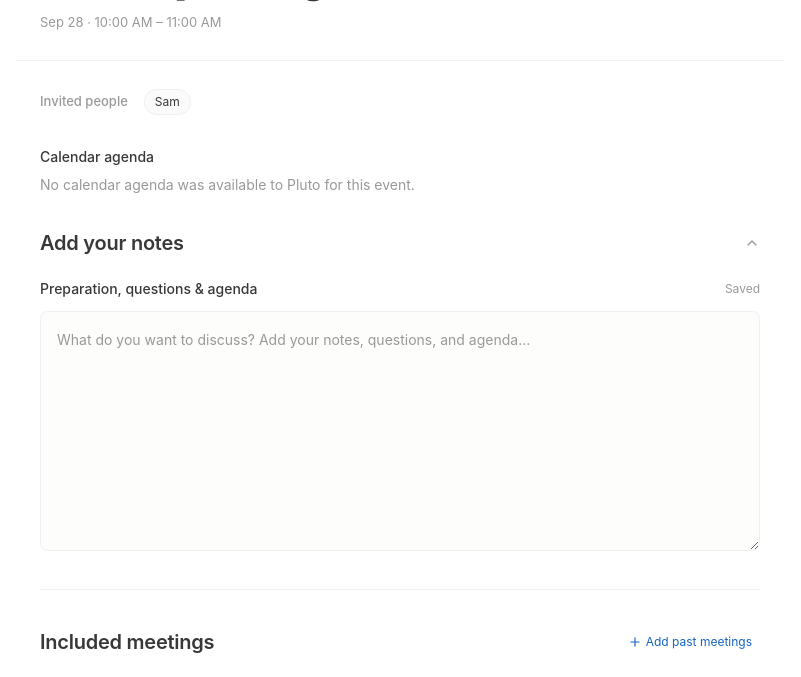
Test case: Escape discards the picker selection, restores focus, and leaves prep open
(page scrolled)
What coordinates should you click on to do the following:
click the button "Add past meetings"
I would click on:
 (690, 642)
Its box is top-left (620, 626), bottom-right (760, 658).
Wait 200 ms
(page scrolled)
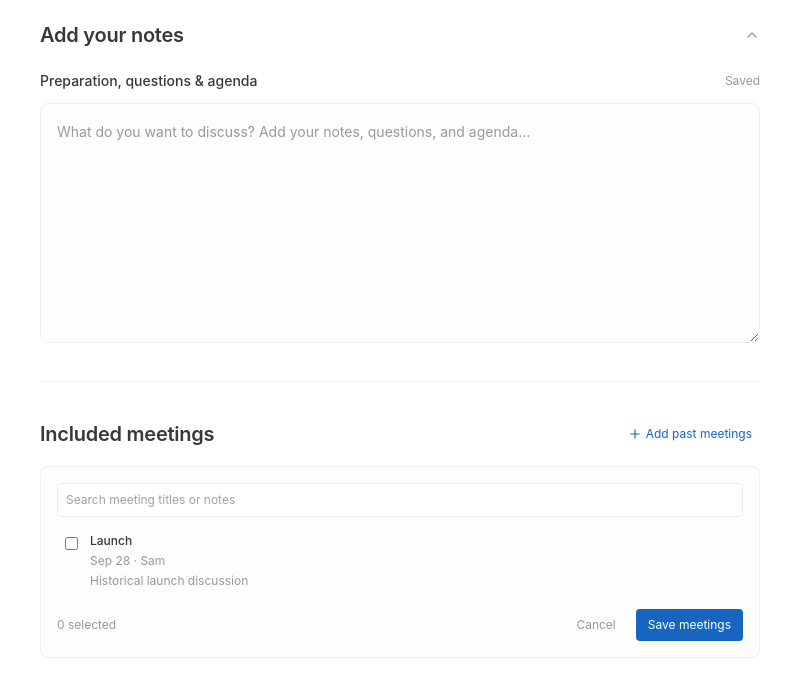
What coordinates should you click on to do the following:
click the checkbox named "Include Launch"
I would click on:
 (72, 543)
Its box is top-left (65, 537), bottom-right (78, 550).
(page scrolled)
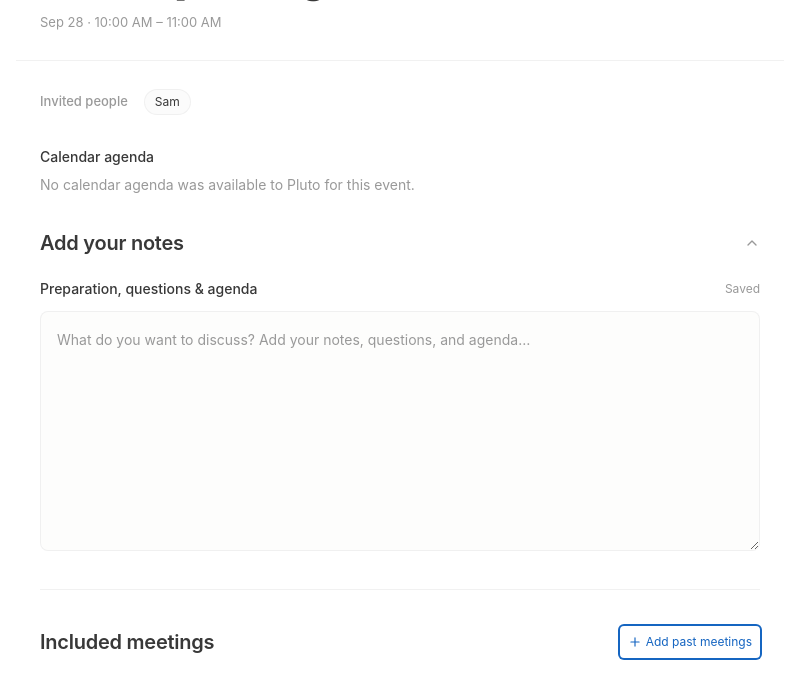
What coordinates should you click on to do the following:
click the button "Add past meetings"
I would click on:
 (690, 642)
Its box is top-left (620, 626), bottom-right (760, 658).
Wait 200 ms
(page scrolled)
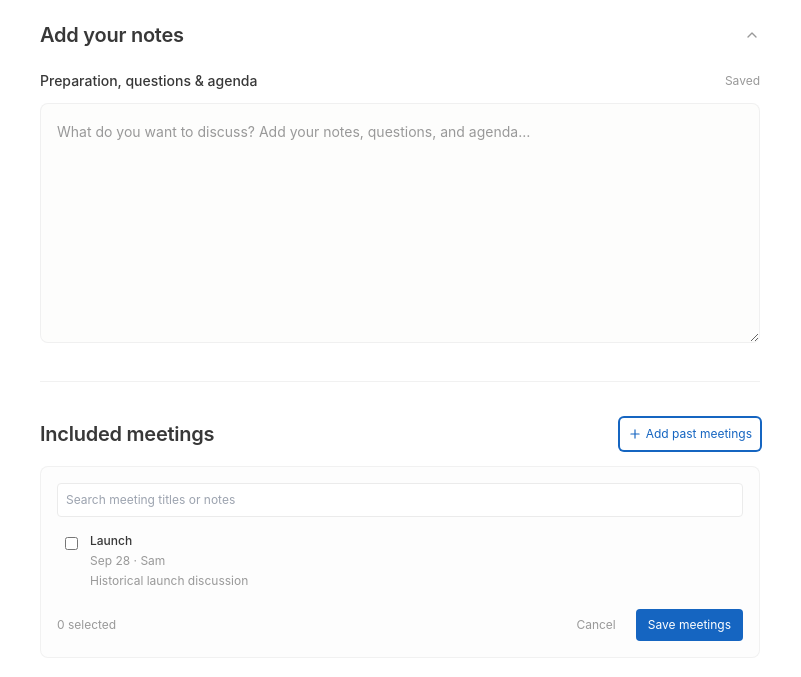
Check: the checkbox named "Include Launch" is not checked, box top-left (65, 537), bottom-right (78, 550)
